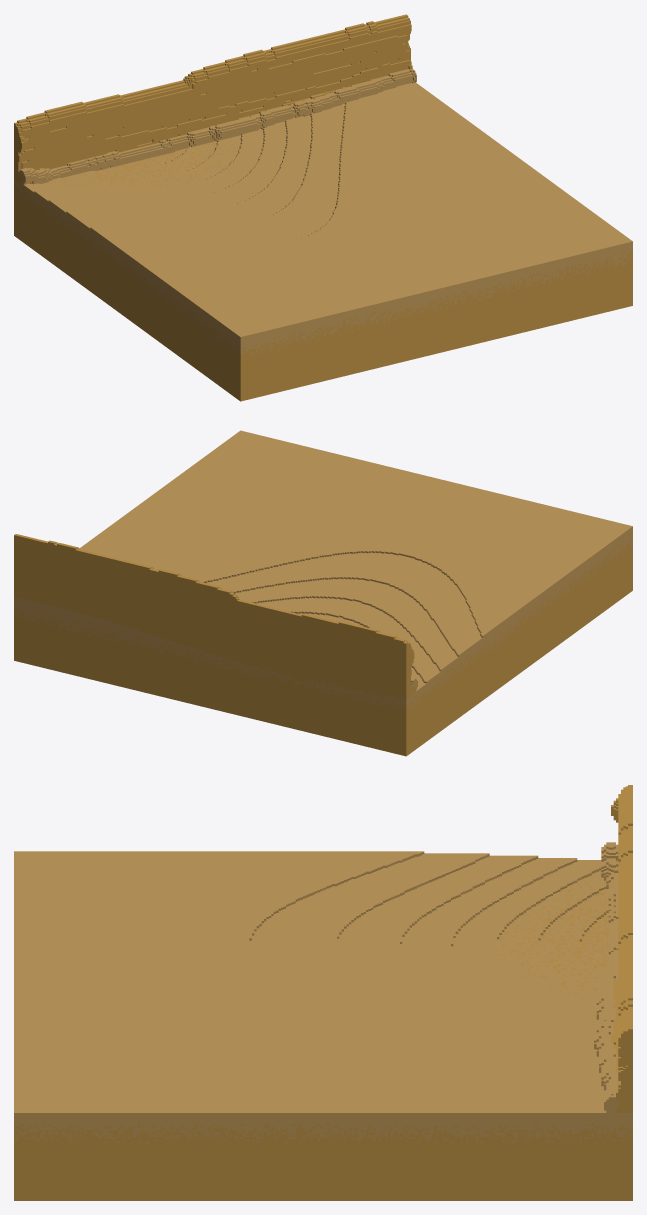
File: Marte-1.obj
3 views of the same model, one above another, from view 1: azimuth 30°, elevation 25°; view 2: azimuth 150°, elevation 25°; view 3: azimuth 270°, elevation 25° (orthographic). The views are drawn at different scales.
Size of the model in its own units: 25.5 by 7.9 by 25.5.
1 material, 1 textured.
